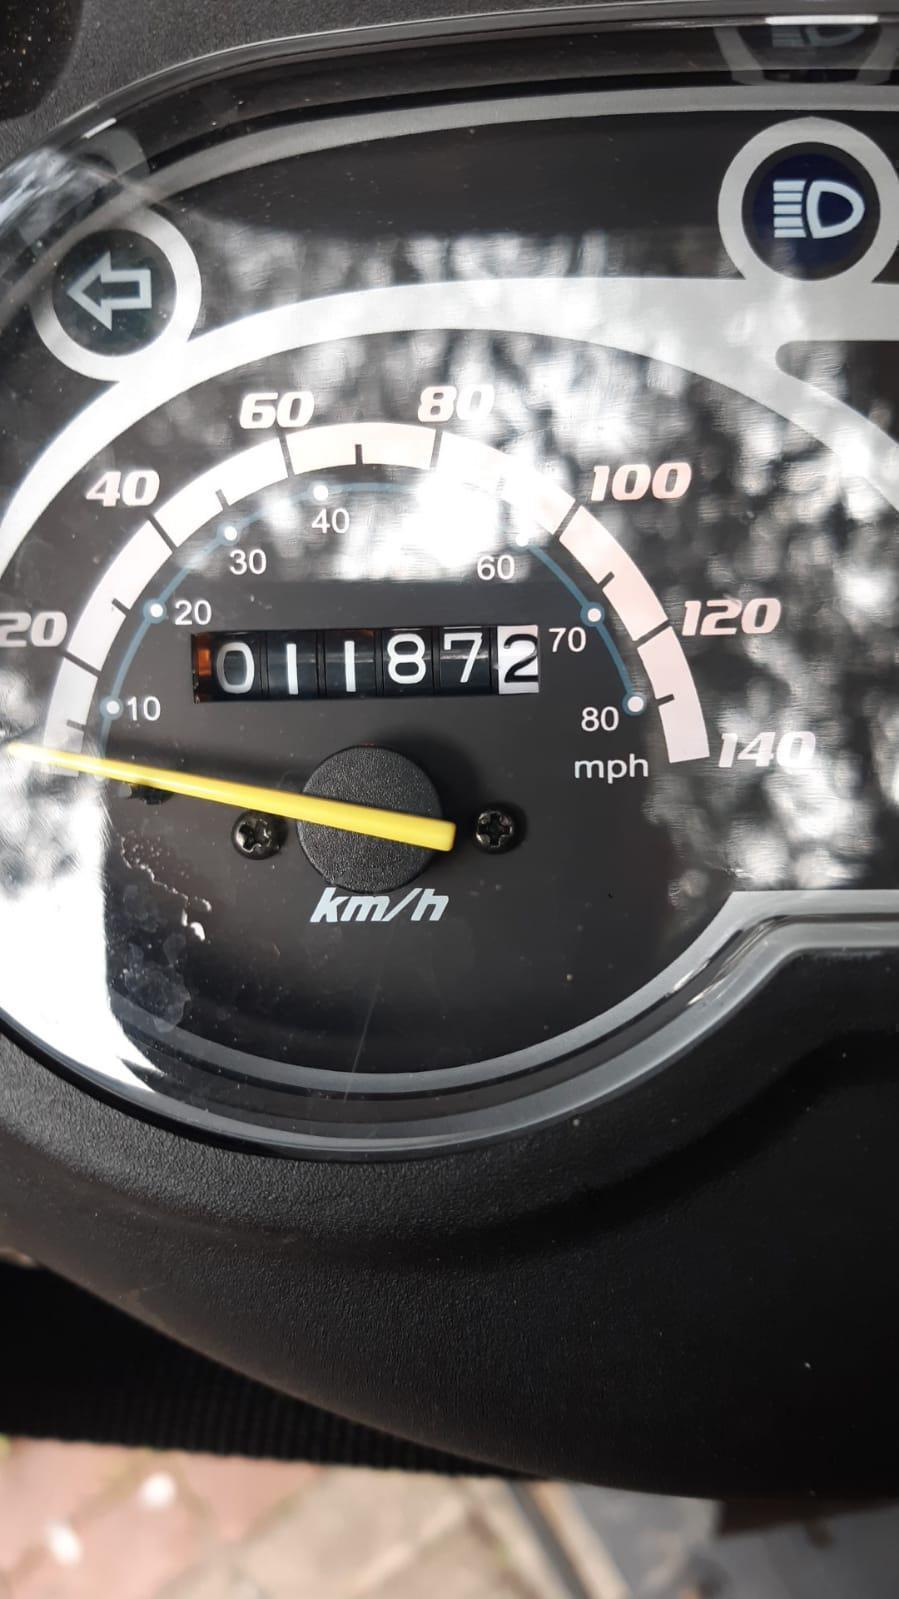0: (207, 638, 257, 697)
1: (331, 631, 361, 704), (277, 631, 302, 705)
2: (501, 631, 543, 701)
7: (441, 629, 483, 685)
8: (386, 629, 430, 693)
odometer: (184, 619, 549, 712)
